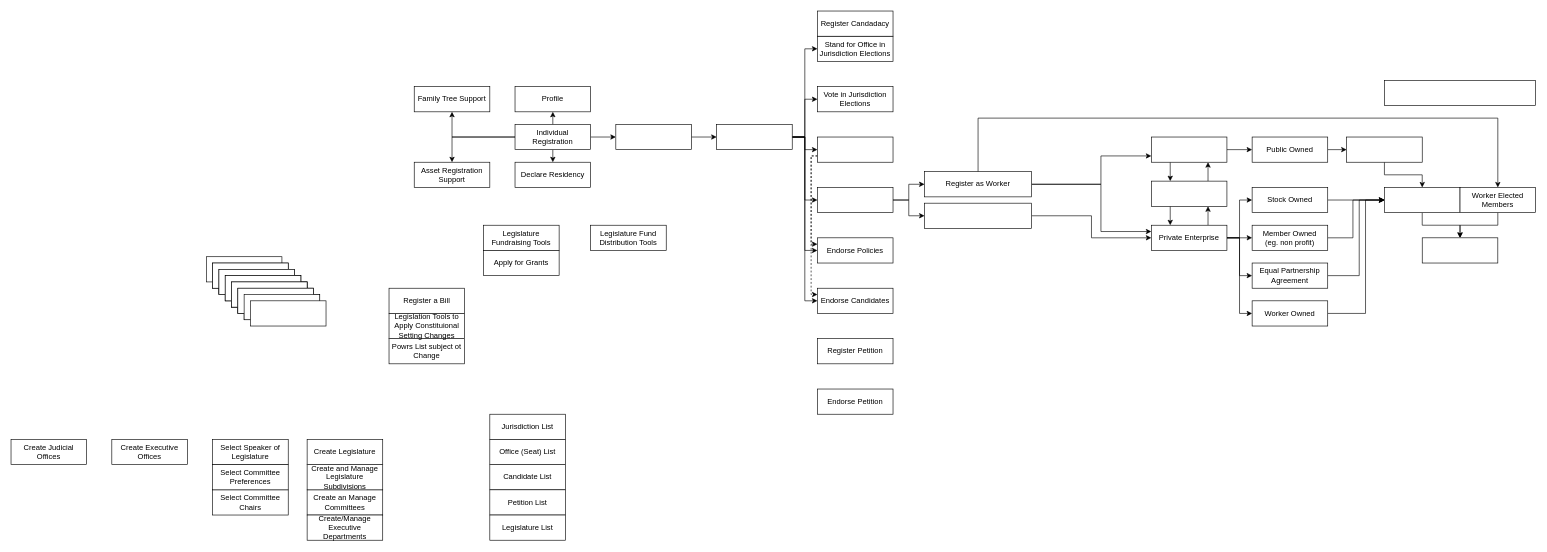
Some shapes in this 1547 by 552 pixel diagram are drawn without their labels. Each missing label, with the centre of its shape:
Apply to Organization: the point at 855,200
Appoinment by Leg. Committee Members: the point at 1384,149
Assign to Jurisdictions: the point at 754,137
Board Election System: the point at 1460,93
Owner Elected Board Member: the point at 1422,200
Public Good: the point at 1189,149
Public-Private Interchange: the point at 1189,193
Register as Stockholder/Member/Partner: the point at 978,215
Register Organization: the point at 855,149
Select Chair: the point at 1460,250
Verify Address: the point at 653,137
